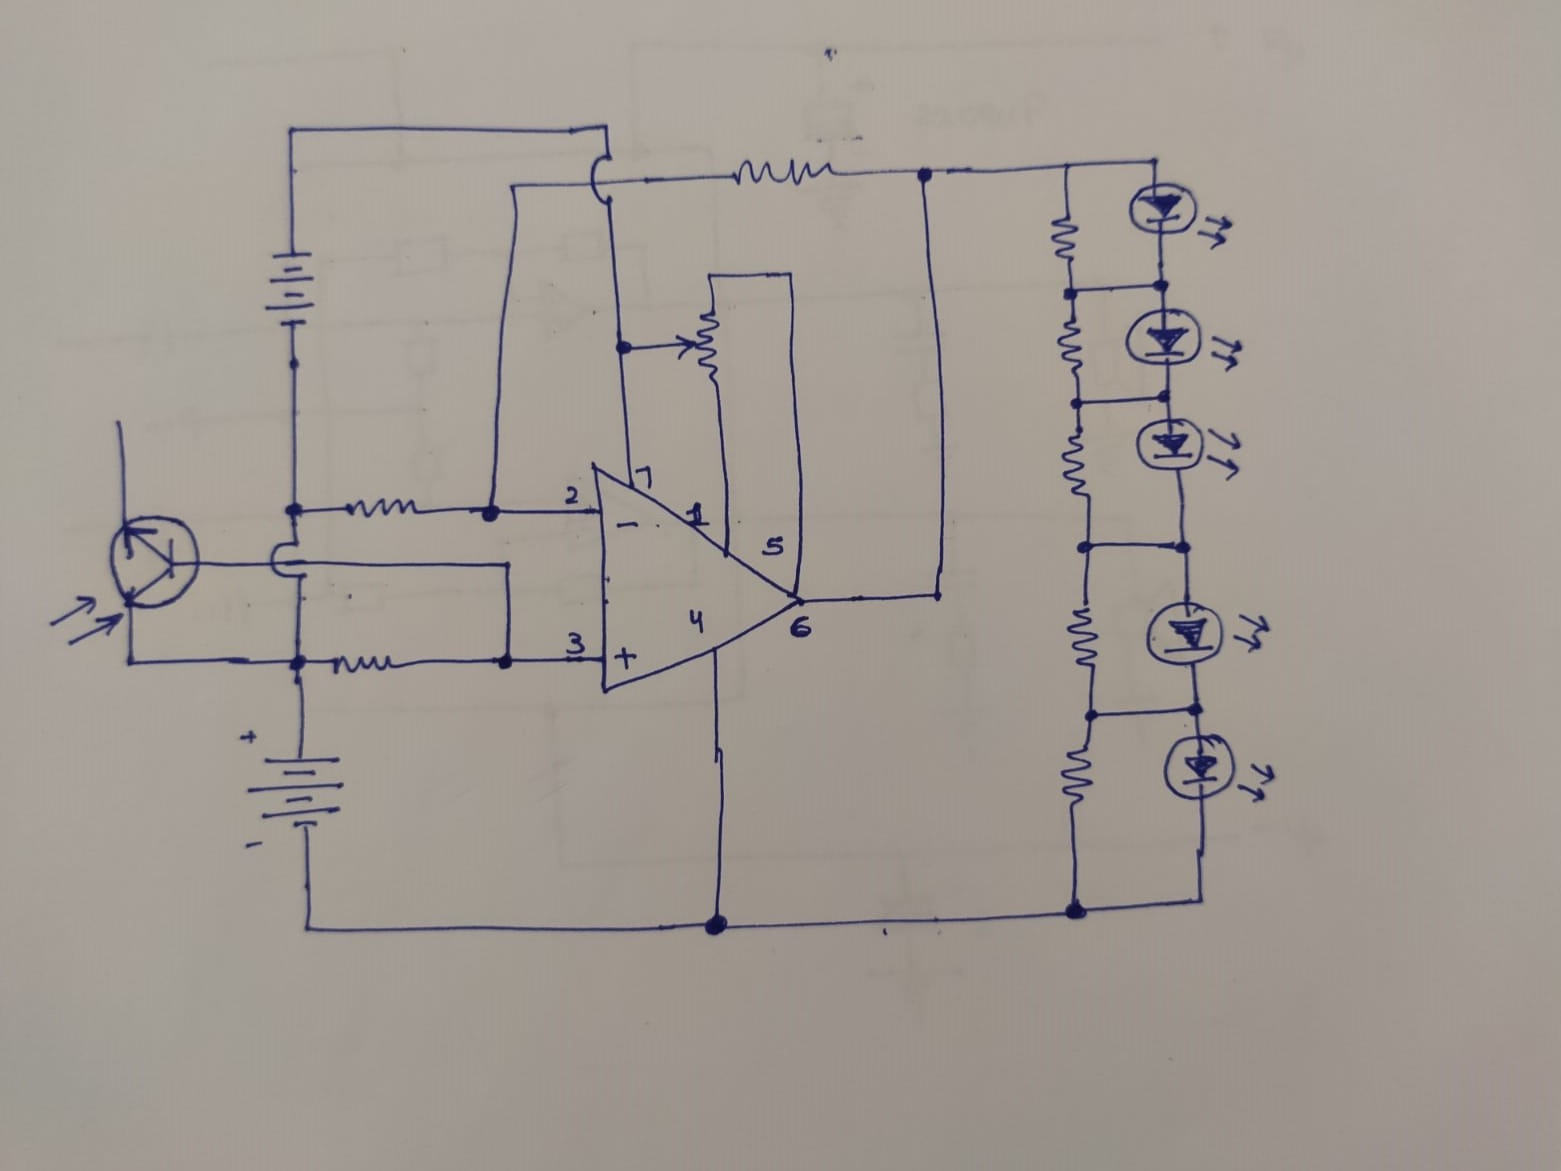crossover: (583, 148, 622, 212), (266, 538, 311, 584)
diode.light_emitting: (1142, 599, 1269, 668), (1160, 731, 1278, 804), (1132, 406, 1242, 483), (1123, 306, 1246, 373), (1122, 178, 1233, 248)
junction: (271, 492, 325, 528), (1058, 895, 1095, 929), (1142, 266, 1175, 303), (697, 907, 736, 939), (1150, 381, 1183, 413), (1058, 391, 1095, 418), (280, 648, 310, 679), (1166, 533, 1197, 562), (474, 498, 506, 526), (907, 161, 939, 189), (1187, 884, 1214, 914), (923, 581, 950, 609), (1078, 699, 1102, 729), (1177, 697, 1210, 720), (493, 555, 520, 581), (1073, 536, 1100, 561), (611, 335, 636, 362), (491, 648, 517, 672), (701, 264, 725, 290), (1060, 279, 1082, 306), (780, 263, 802, 290), (295, 916, 321, 939), (499, 178, 525, 200), (280, 121, 304, 144), (595, 117, 616, 140), (1053, 156, 1076, 177), (121, 651, 143, 672), (1142, 153, 1162, 173)
operational_amplifier: (583, 458, 818, 699)
resistor: (731, 153, 836, 191), (1060, 421, 1095, 503), (1063, 601, 1102, 672), (1055, 742, 1097, 807), (344, 491, 423, 522), (319, 648, 397, 678), (1055, 312, 1087, 376), (1051, 205, 1082, 262)
resistor.adjustable: (665, 303, 720, 387)
terminal: (106, 412, 129, 439)
text: (680, 499, 711, 526), (785, 613, 814, 638), (613, 645, 638, 672), (686, 606, 707, 635), (760, 535, 786, 557), (634, 465, 654, 491), (565, 630, 586, 656), (562, 483, 581, 506), (613, 517, 642, 529)
transistor.photo: (46, 513, 202, 645)
voltage.dc: (235, 726, 342, 851), (260, 248, 319, 331)
